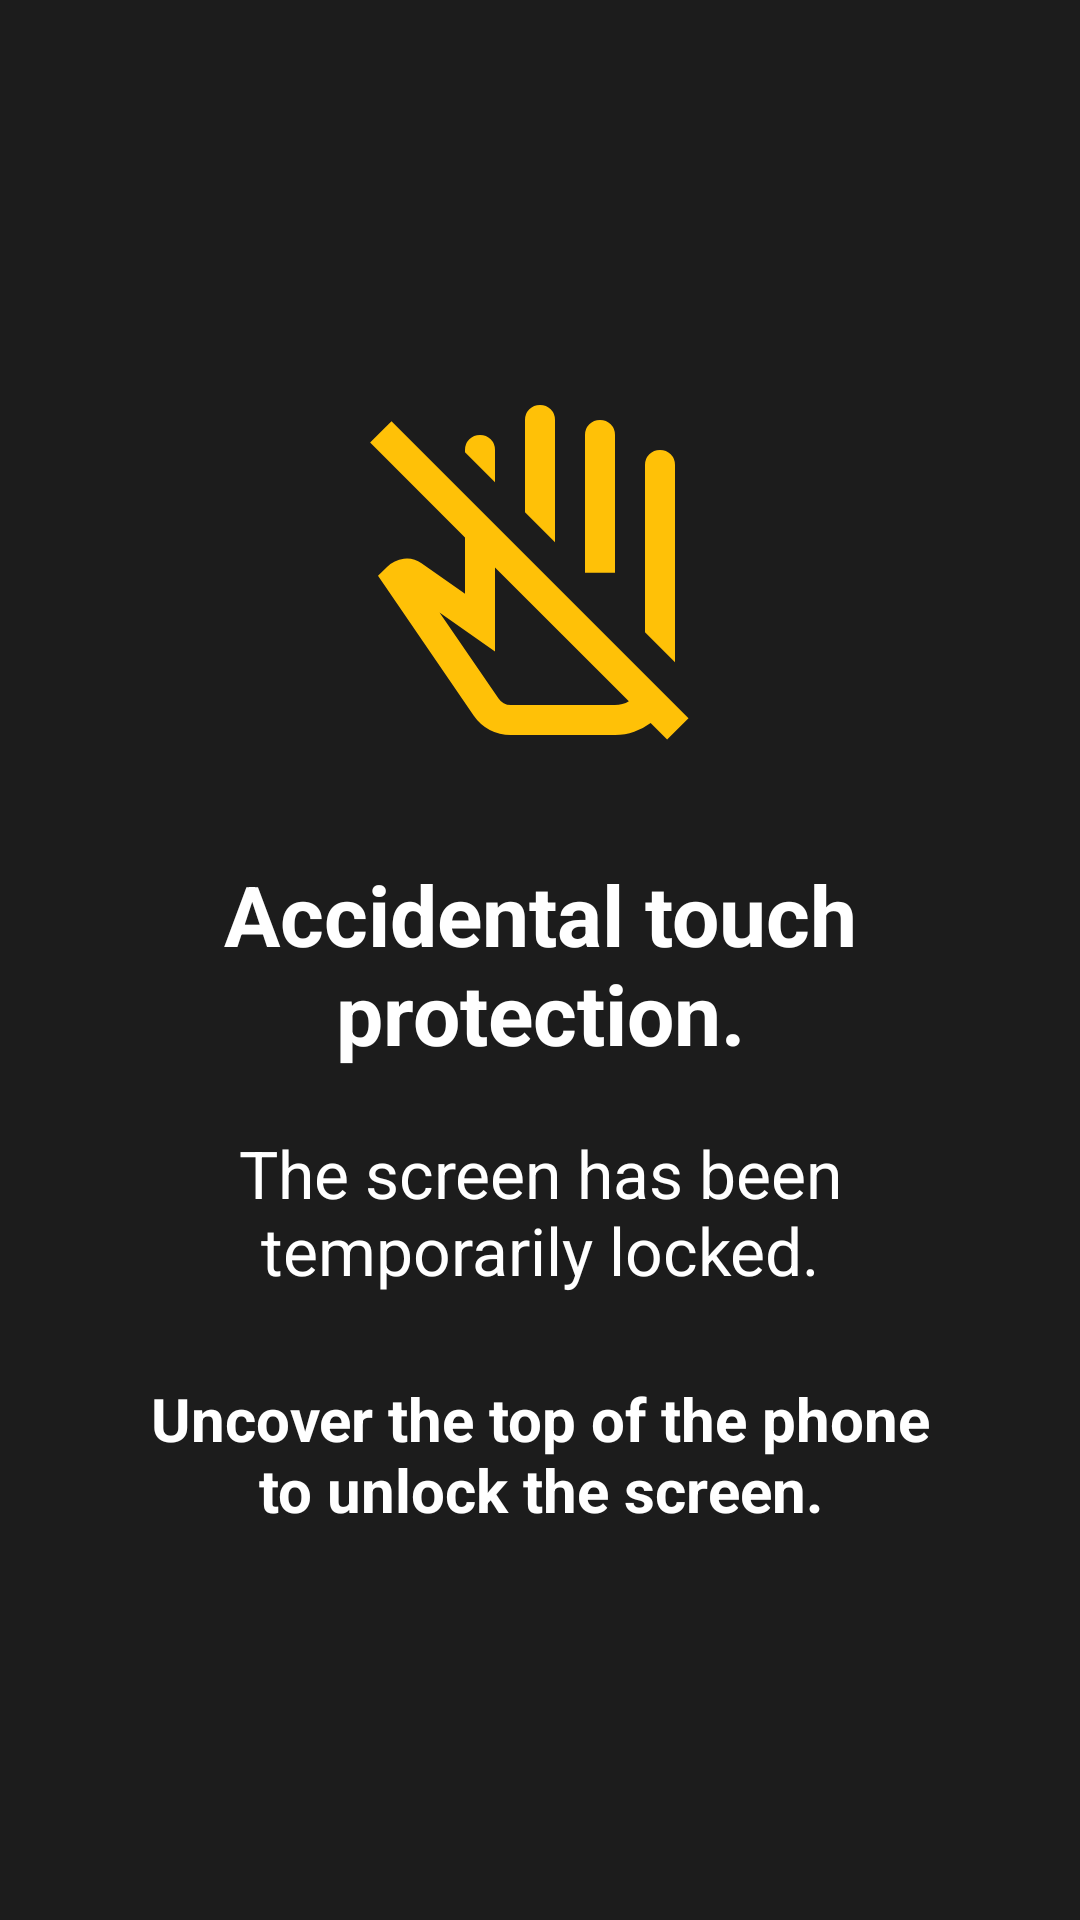

Icon click points for this 1080×1920 phone screenshot, format [x,y]:
do not touch: [529,572]
